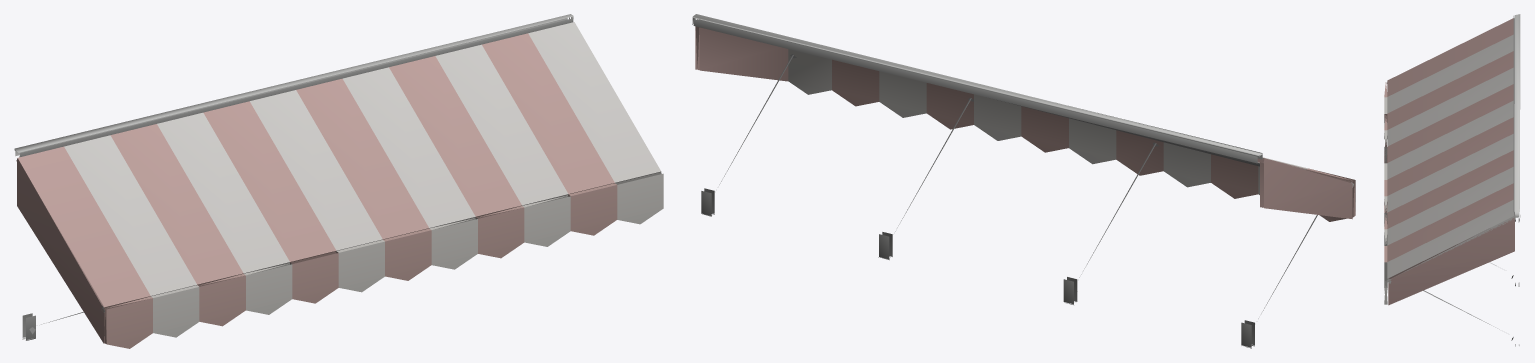
Rendered from awning.lod.glb.
3 views of the same model, side by side, from view 1: azimuth 30°, elevation 25°; view 2: azimuth 150°, elevation 25°; view 3: azimuth 270°, elevation 25° (orthographic). The views are drawn at different scales.
Parts seen in each view (by area): view 1: awning.001; view 2: awning.001; view 3: awning.001.
Part boxes in pixels (box(x1,y1,x2,y2)): awning.001: box(14, 14, 663, 348); awning.001: box(692, 14, 1355, 348); awning.001: box(1384, 14, 1520, 346).
Bounding box in the file's own units: 4 × 1.32 × 1.16.
